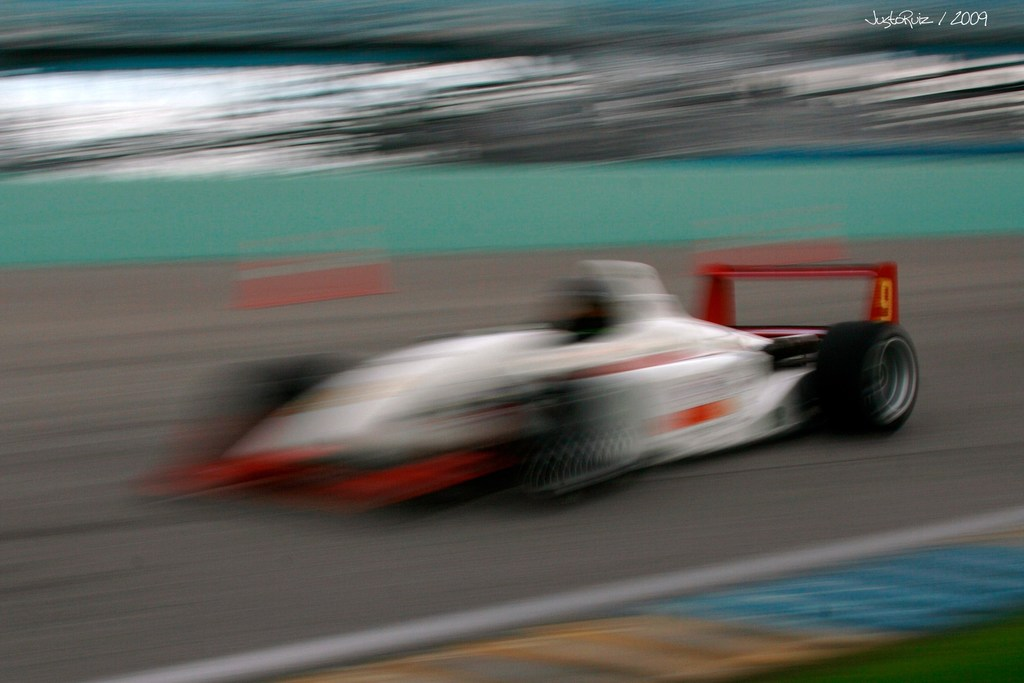Car: (145, 256, 917, 511)
